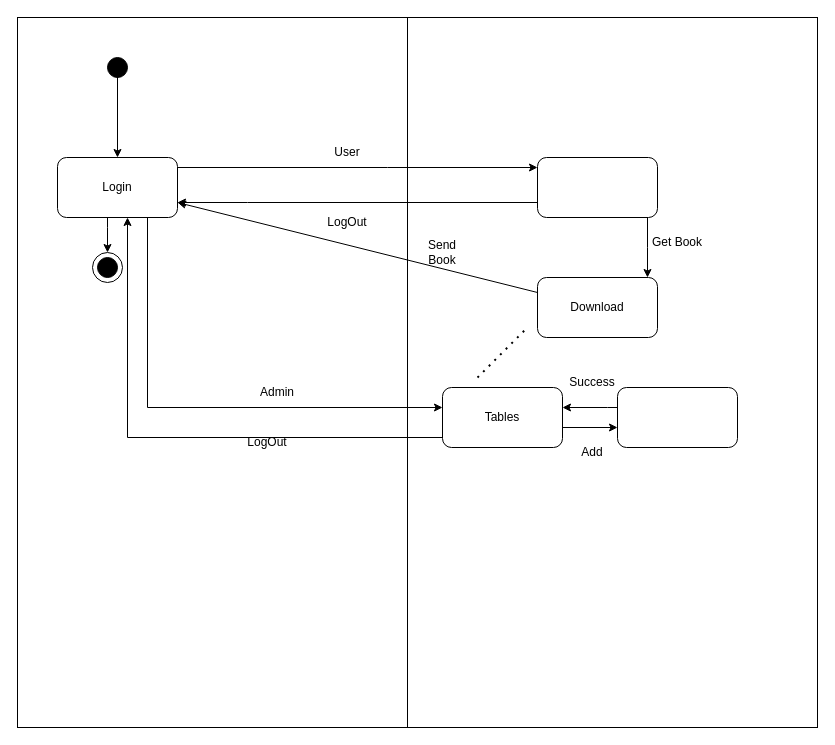
Image size: 835x745. Some labels were removed from this diagram. The centre of each missing label's shape, as x and y in pixels:
Books: the point at 597,187
Modify/Add: the point at 677,417
